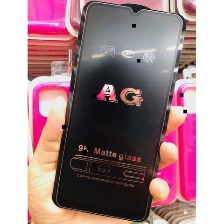phone: (47, 0, 188, 224)
